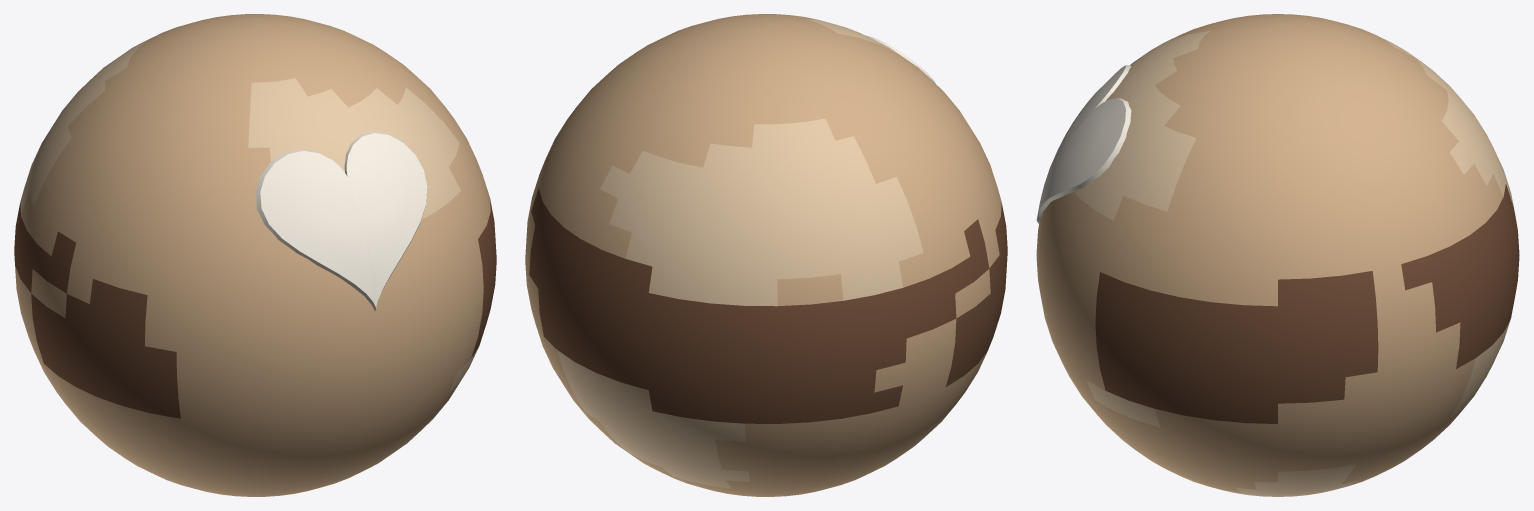
Rendered from dwarf_planet.glb.
The picture shows the model from 3 angles, left to right: view 1: azimuth 30°, elevation 25°; view 2: azimuth 150°, elevation 25°; view 3: azimuth 270°, elevation 25°; orthographic projection.
Visible parts, largest first — view 1: body; view 2: body; view 3: body.
Part boxes in pixels (x1,y1,x2,y2): body: (14, 14, 496, 496); body: (525, 14, 1007, 496); body: (1036, 14, 1519, 496).
Bounding box in the file's own units: 200 × 200 × 200.
